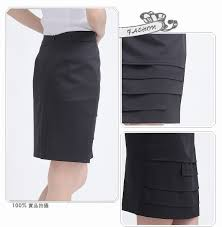F_tailored skirt: (27, 27, 104, 167), (120, 131, 207, 220)
